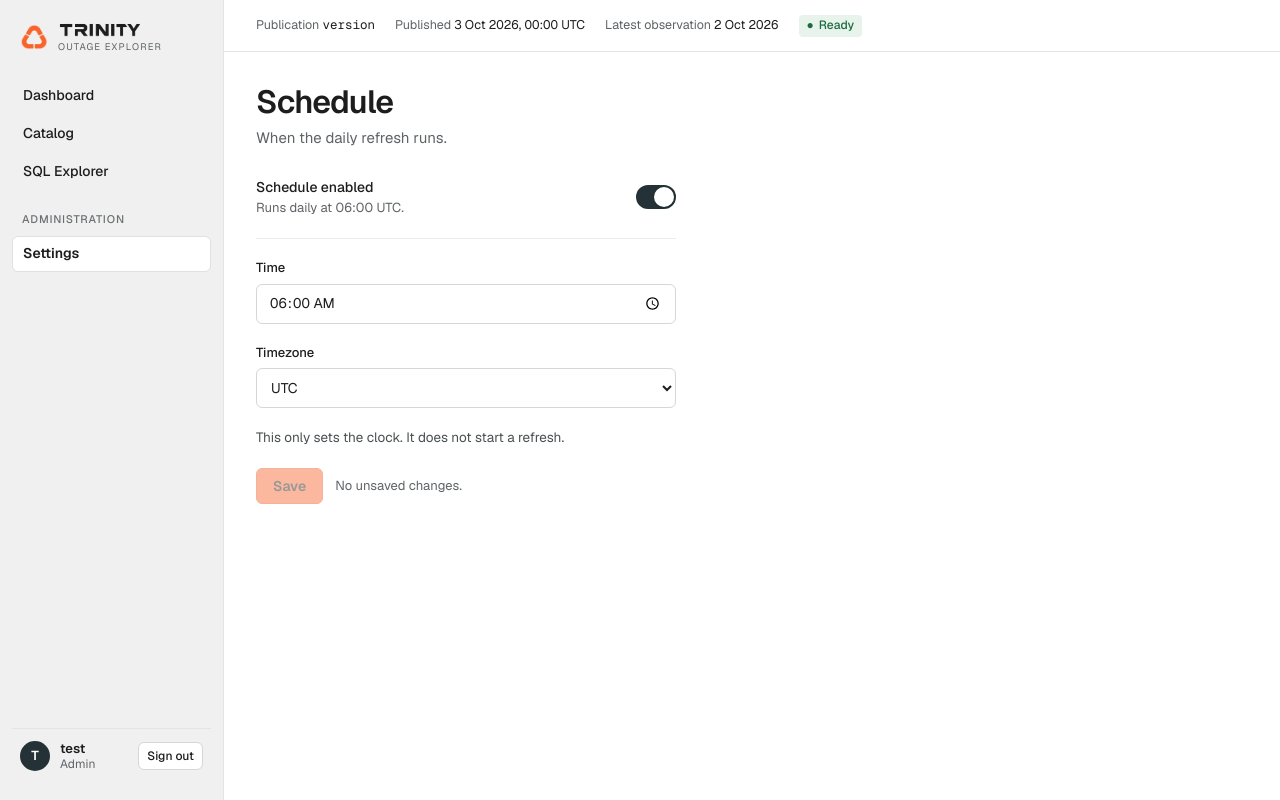
Test: settings stale revision reloads instead of overwriting another Admin edit
Step 1. Replace the text in the time field labelled "Time" with "07:00" → [466, 304], box [256,284,676,324]
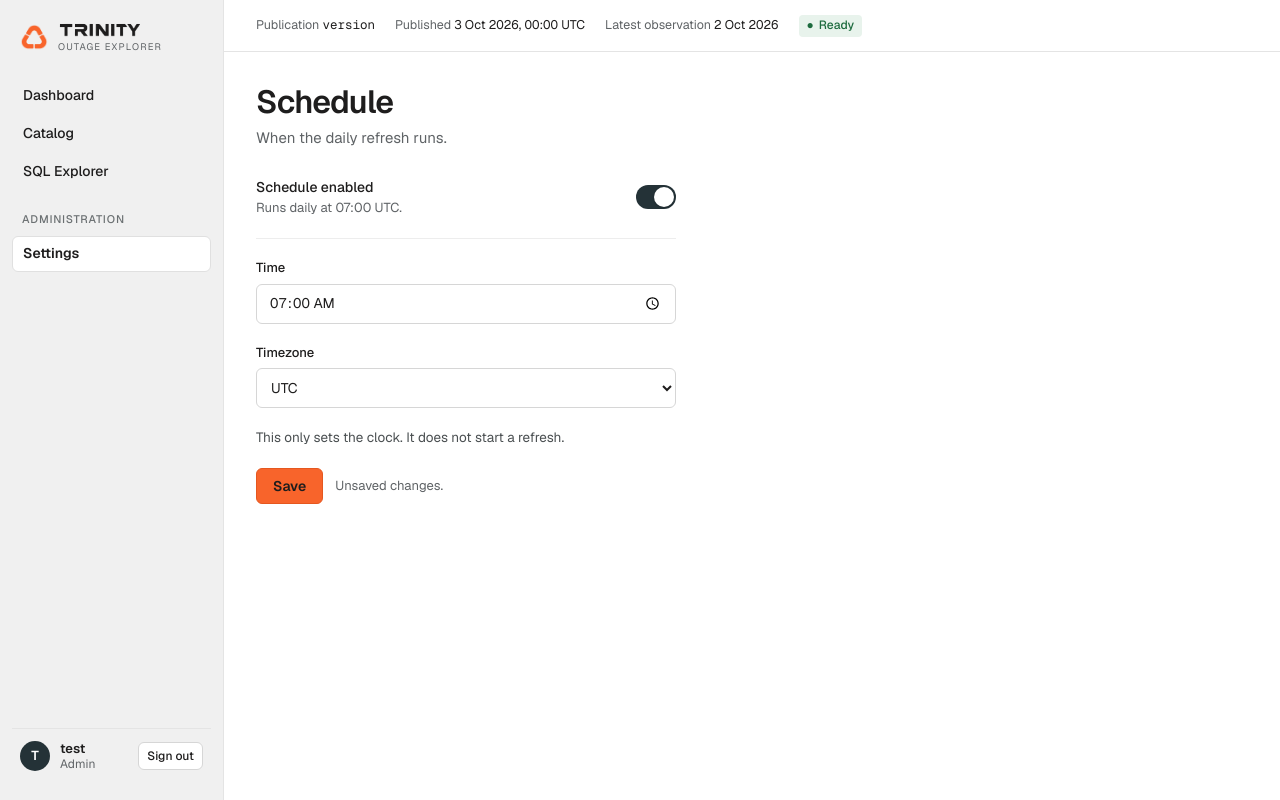
Step 2. Click the button "Save" → [290, 486], box [256,468,323,504]
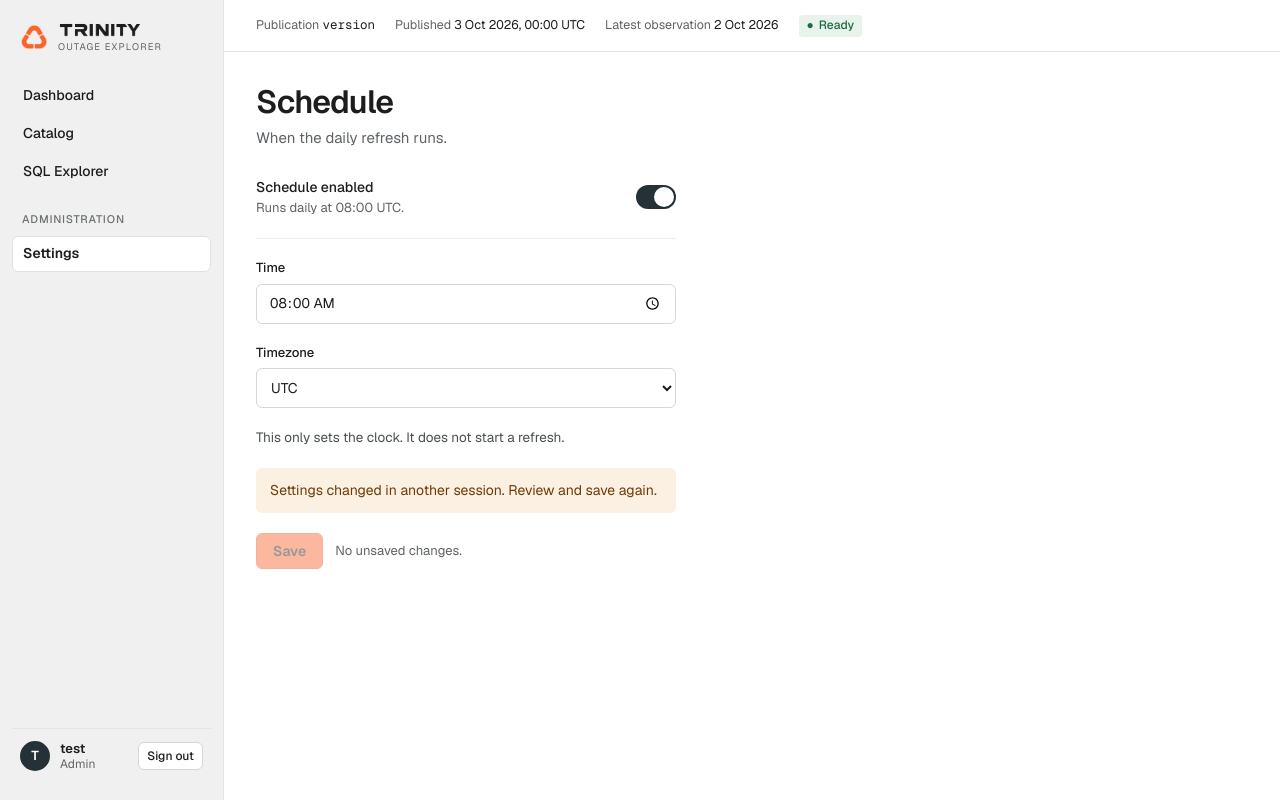
Now the text "Settings changed in another session. Review and save again." is shown, box [270,480,657,501]
Now the time field labelled "Time" holds "08:00", box [256,284,676,324]
Now the button "Save" is disabled, box [256,533,323,569]
